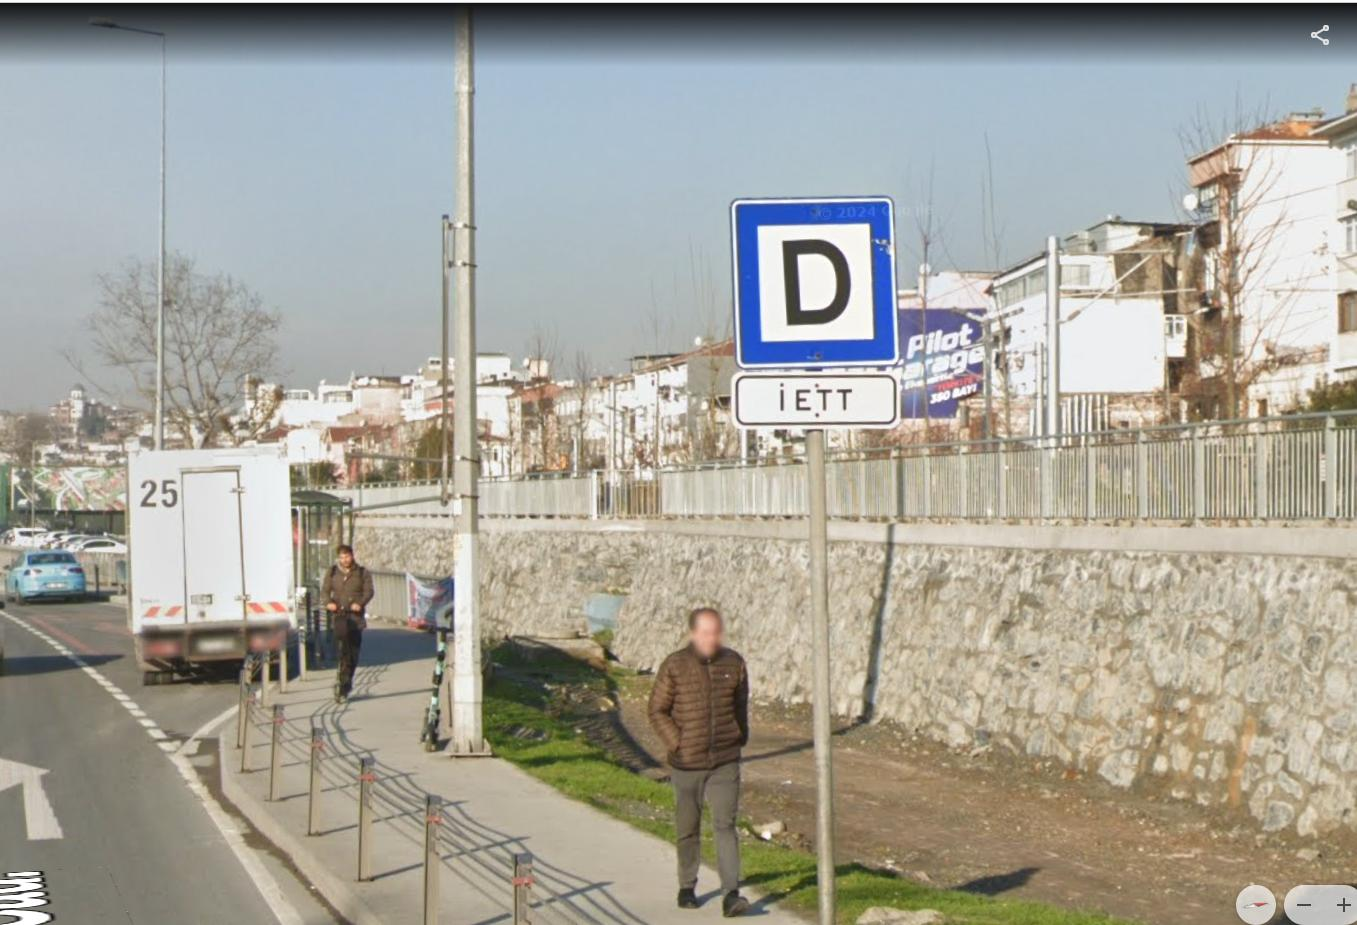station: (719, 183, 908, 373)
